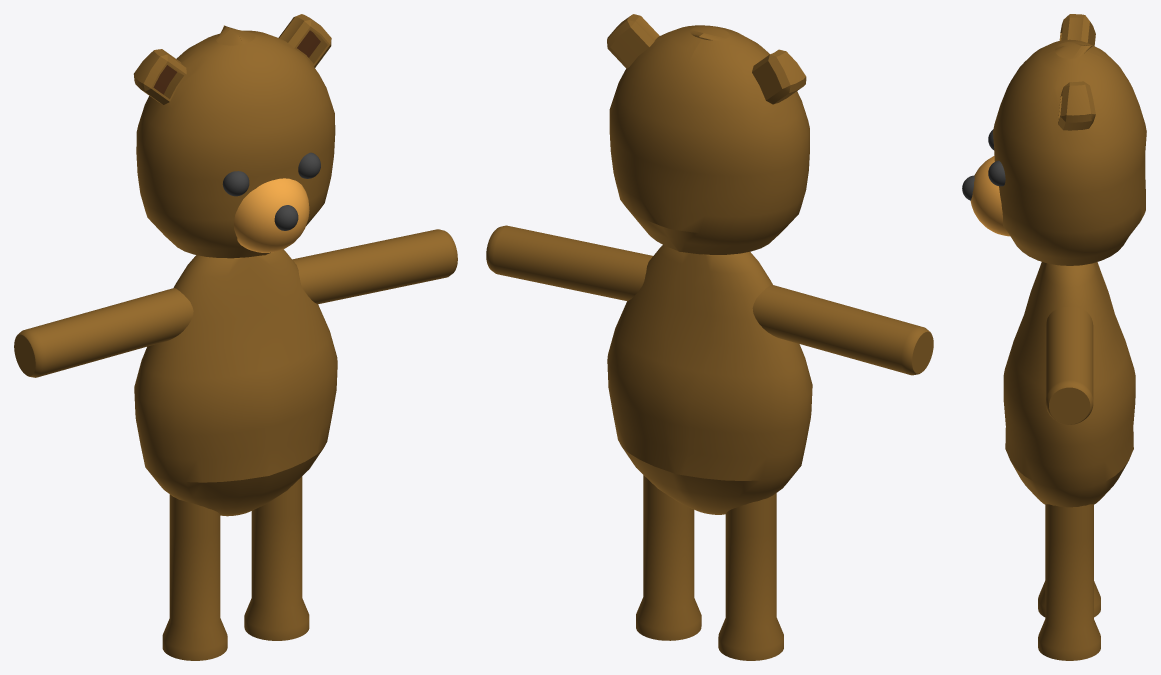
File: teddyBear.fbx
3 renders of one model, left to right at view 1: azimuth 30°, elevation 25°; view 2: azimuth 150°, elevation 25°; view 3: azimuth 270°, elevation 25°, orthographic. The views are drawn at different scales.
Visible parts, largest first — view 1: BearBody, BearHead, BearArms, BearLegs, BearMouth; view 2: BearBody, BearHead, BearArms, BearLegs; view 3: BearHead, BearBody, BearLegs, BearArms, BearMouth, eye01.
Boxes of the visible parts, left/top/right/bottom form: BearBody: left=134, top=249, right=337, bottom=516; BearHead: left=133, top=14, right=335, bottom=258; BearArms: left=14, top=229, right=457, bottom=377; BearLegs: left=162, top=476, right=309, bottom=660; BearMouth: left=234, top=178, right=309, bottom=252; BearBody: left=607, top=245, right=812, bottom=514; BearHead: left=607, top=14, right=809, bottom=254; BearArms: left=486, top=225, right=933, bottom=375; BearLegs: left=636, top=475, right=783, bottom=660; BearHead: left=993, top=14, right=1146, bottom=265; BearBody: left=1003, top=262, right=1135, bottom=507; BearLegs: left=1038, top=504, right=1100, bottom=660; BearArms: left=1045, top=307, right=1093, bottom=424; BearMouth: left=970, top=156, right=1009, bottom=236; eye01: left=988, top=160, right=1005, bottom=186.
Bounding box in the file's own units: 461 × 627 × 180.
